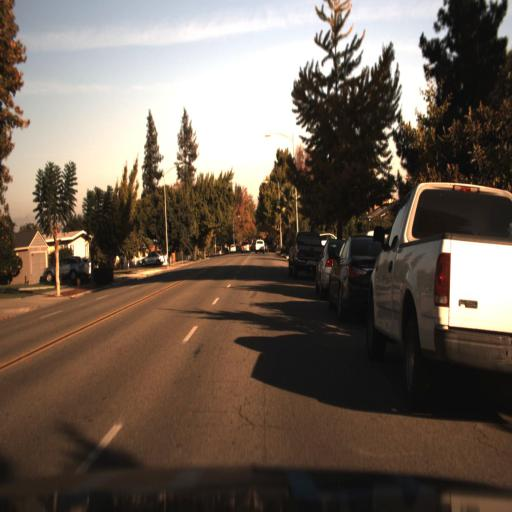car: (363, 182, 512, 408), (327, 236, 386, 321), (309, 232, 340, 302), (37, 253, 94, 289), (287, 228, 324, 279), (41, 255, 88, 282), (139, 247, 166, 269)
